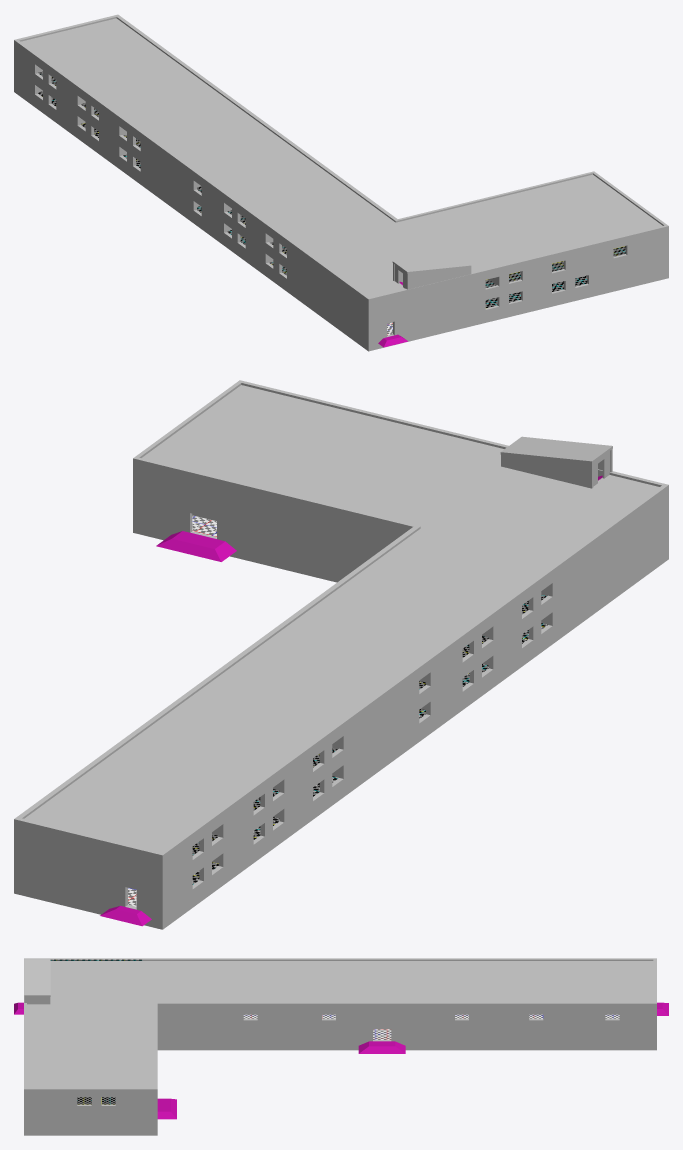
File: dorms.obj
3 renders of one model, top to bottom at view 1: azimuth 30°, elevation 25°; view 2: azimuth 150°, elevation 25°; view 3: azimuth 270°, elevation 25°, orthographic. The views are drawn at different scales.
Parts seen in each view (by area): view 1: Dorms; view 2: Dorms; view 3: Dorms.
Part boxes in pixels (x1,y1,x2,y2): Dorms: [14, 14, 668, 351]; Dorms: [14, 380, 668, 929]; Dorms: [14, 958, 668, 1135].
Size of the model in its own units: 64.95 by 14.43 by 137.
